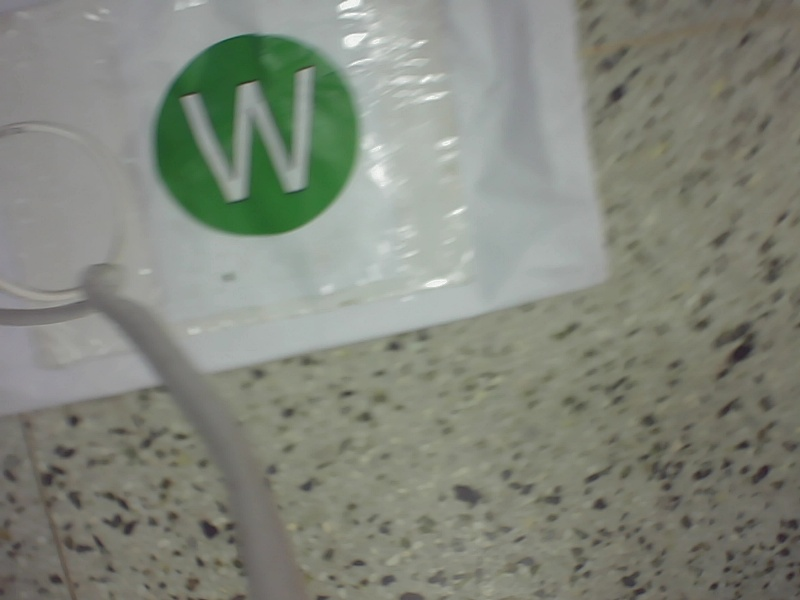areaB: (151, 34, 367, 239)
